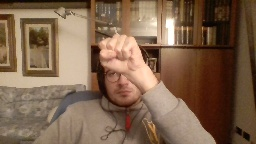Pugno: (97, 33, 144, 73)
